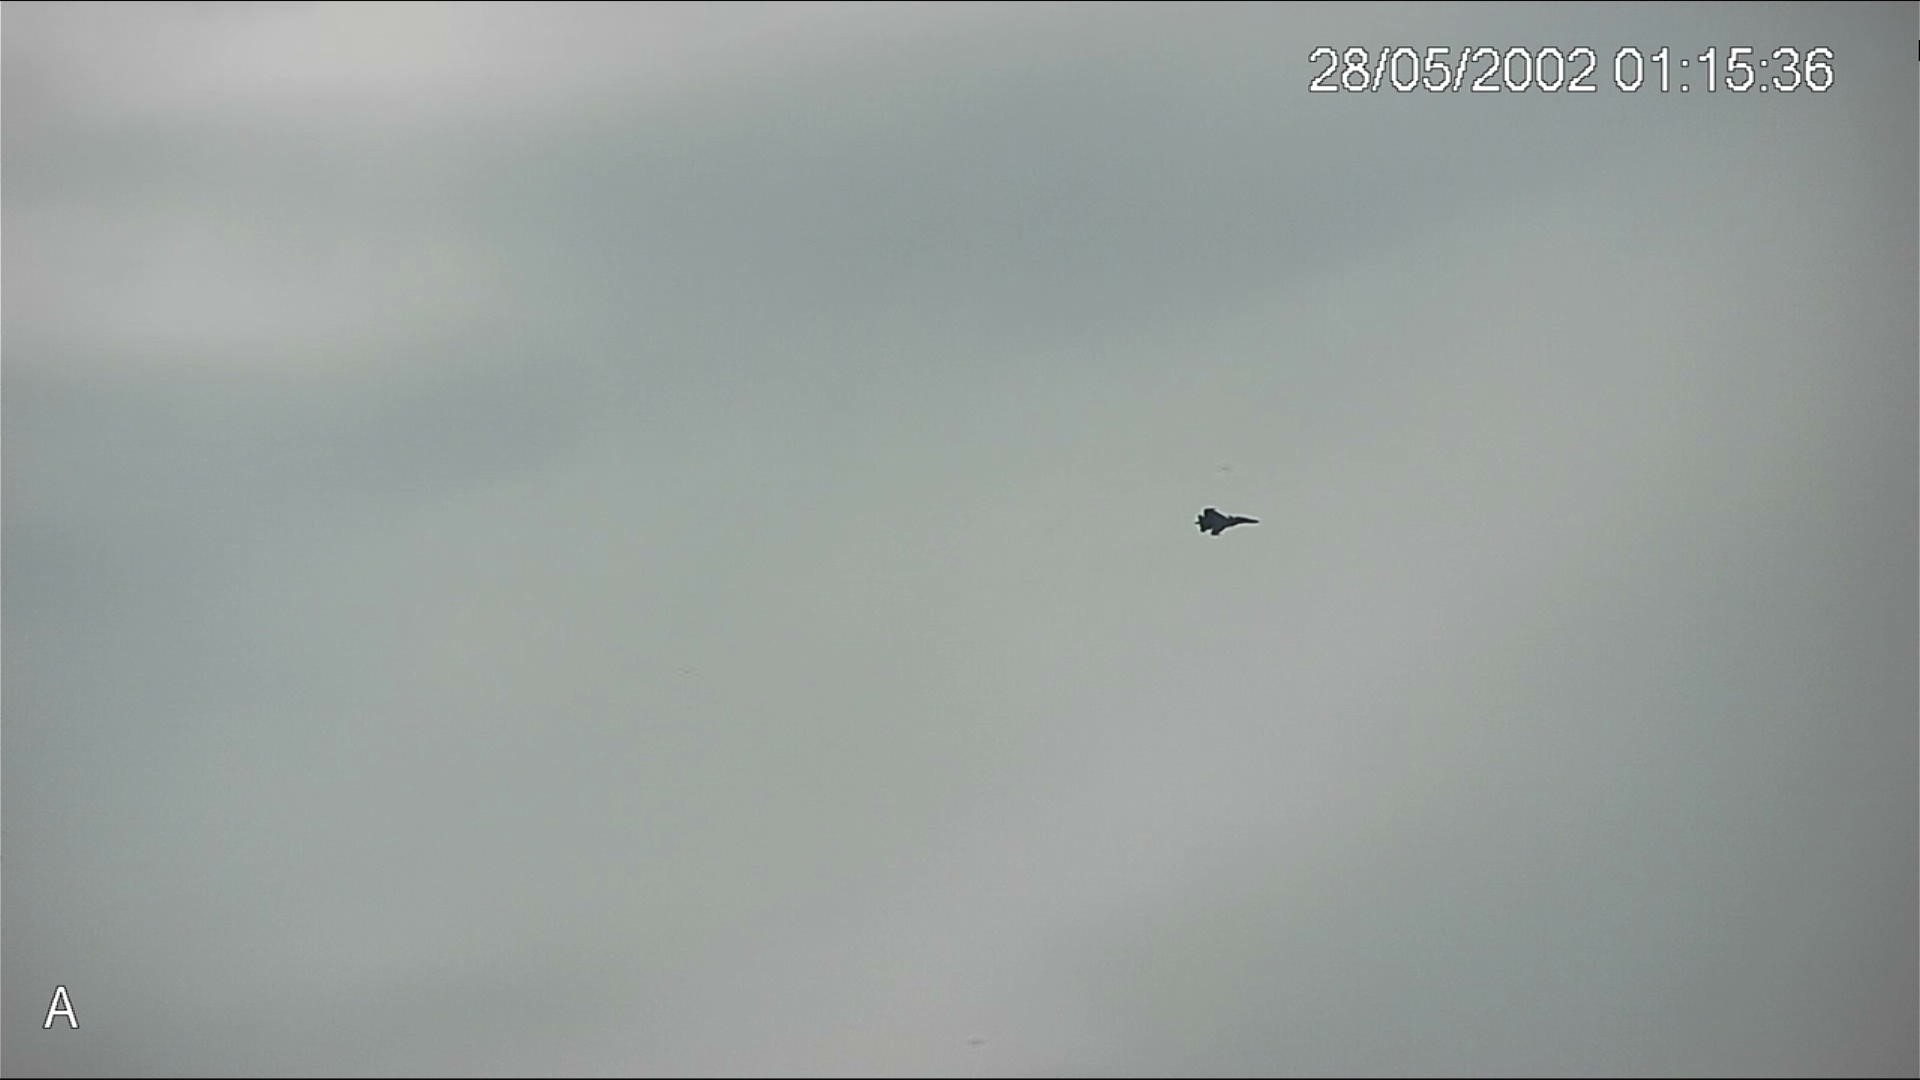SU_30: (1193, 505, 1258, 541)
